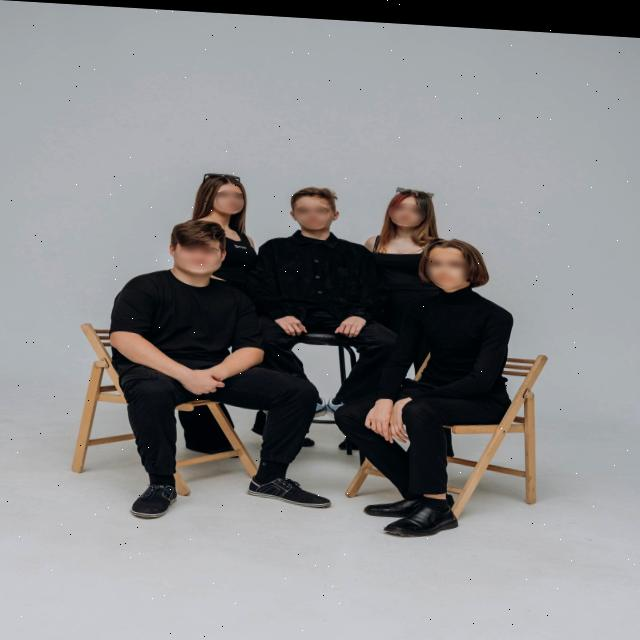Person: (100, 213, 334, 563), (347, 224, 531, 543), (253, 175, 375, 360), (346, 170, 454, 275), (188, 160, 271, 265)
